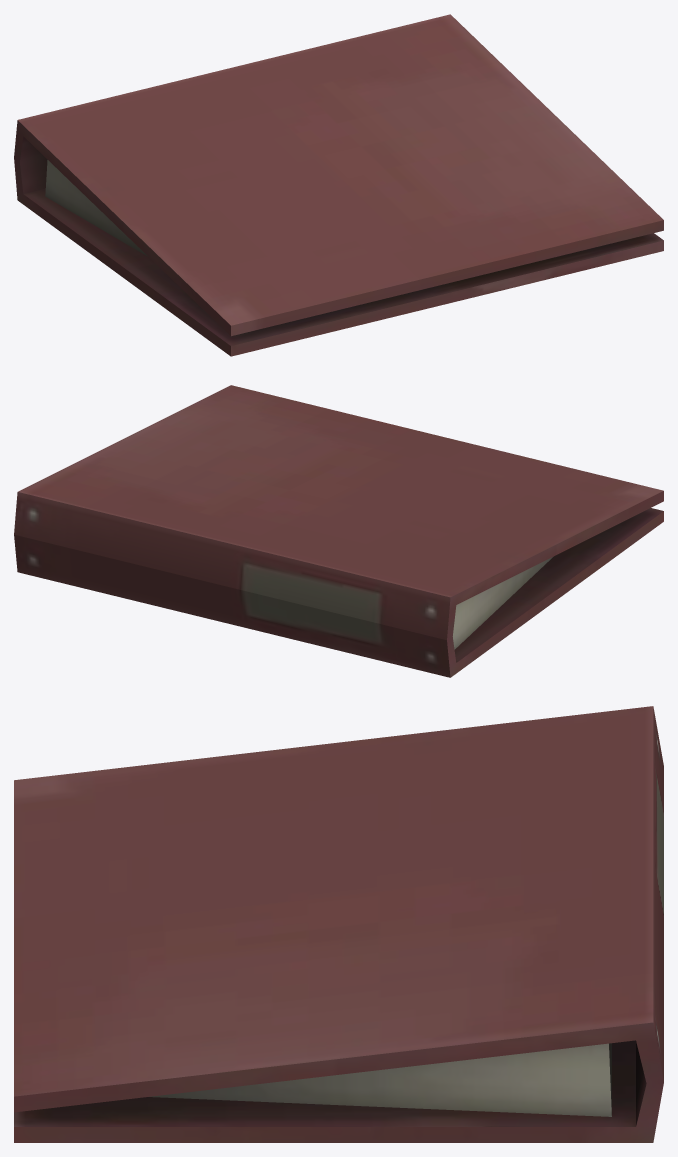
The picture shows the model from 3 angles, top to bottom: view 1: azimuth 30°, elevation 25°; view 2: azimuth 150°, elevation 25°; view 3: azimuth 270°, elevation 25°; orthographic projection. The views are drawn at different scales.
Visible parts, largest first — view 1: body0_model0_lod0_mesh0; view 2: body0_model0_lod0_mesh0; view 3: body0_model0_lod0_mesh0.
Part boxes in pixels (x1,y1,x2,y2): body0_model0_lod0_mesh0: [14, 14, 663, 356]; body0_model0_lod0_mesh0: [14, 385, 663, 677]; body0_model0_lod0_mesh0: [14, 706, 663, 1142].
Size of the model in its own units: 21.46 by 3.81 by 18.63.
1 material, 1 textured.
